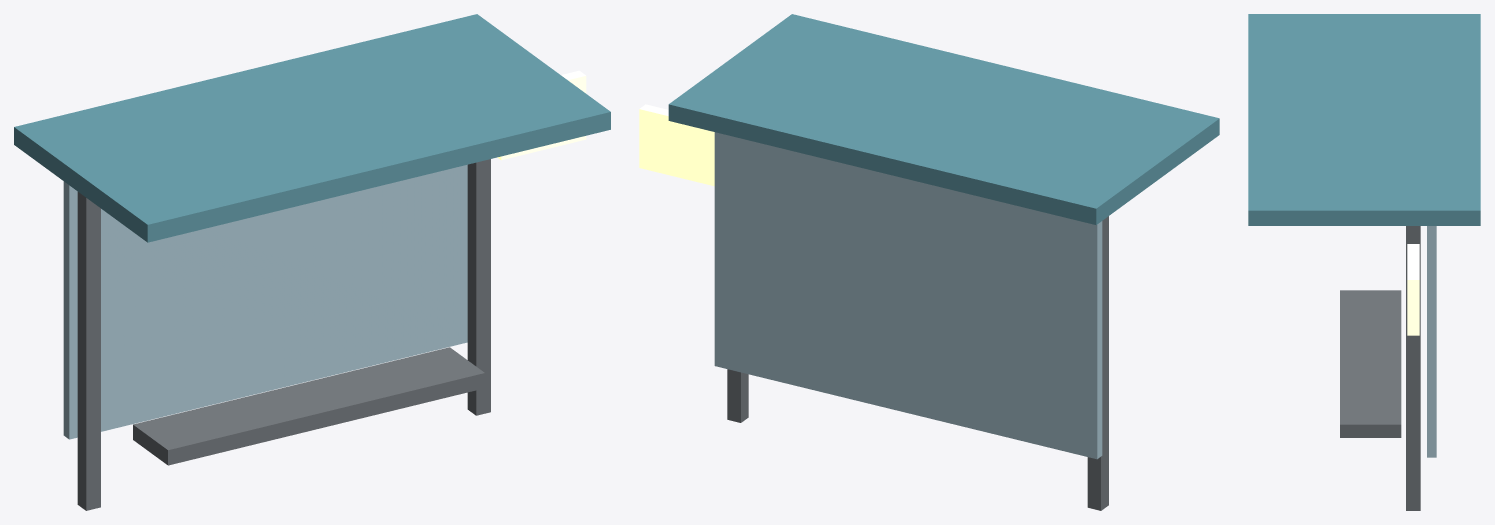
Rendered from bus_stop.glb.
3 renders of one model, left to right at view 1: azimuth 30°, elevation 25°; view 2: azimuth 150°, elevation 25°; view 3: azimuth 270°, elevation 25°, orthographic. The views are drawn at different scales.
Visible parts, largest first — view 1: bus_stop; view 2: bus_stop; view 3: bus_stop.
Part boxes in pixels (left/top/right/bottom): bus_stop: left=14, top=14, right=610, bottom=510; bus_stop: left=639, top=14, right=1219, bottom=510; bus_stop: left=1248, top=14, right=1480, bottom=510.
Bounding box in the file's own units: 4.35 × 2.82 × 1.9.
